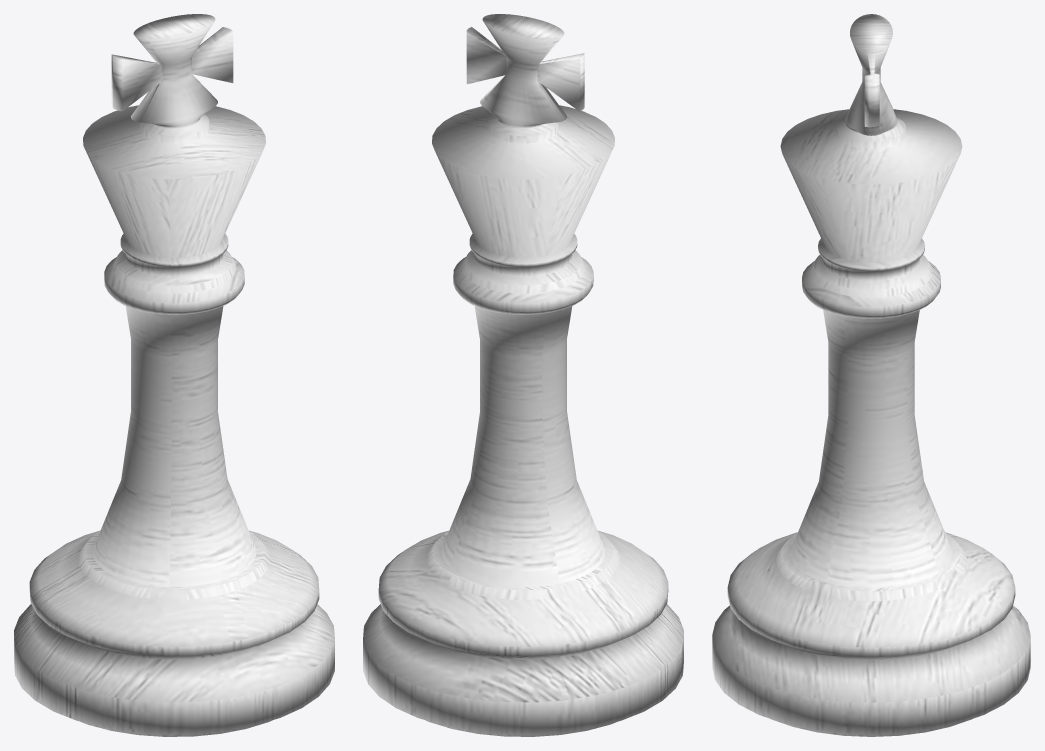
The model's file is king-white.fbx.
The picture shows the model from 3 angles, left to right: view 1: azimuth 30°, elevation 25°; view 2: azimuth 150°, elevation 25°; view 3: azimuth 270°, elevation 25°; orthographic projection.
Parts seen in each view (by area): view 1: King.001; view 2: King.001; view 3: King.001.
Boxes of the visible parts, x1,y1,x2,y2 form: King.001: [14, 14, 334, 736]; King.001: [363, 14, 683, 736]; King.001: [712, 14, 1030, 736].
Size of the model in its own units: 126 by 280 by 126.
Materials: 1 (1 with a texture image).
